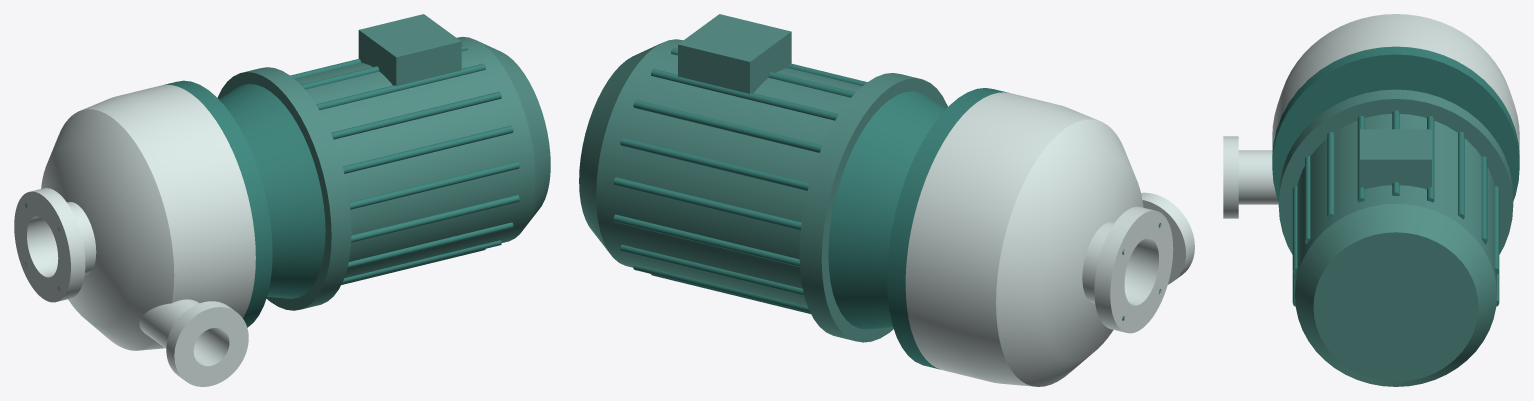
3 views of the same model, side by side, from view 1: azimuth 30°, elevation 25°; view 2: azimuth 150°, elevation 25°; view 3: azimuth 270°, elevation 25° (orthographic). The views are drawn at different scales.
Parts seen in each view (by area): view 1: 泵体_圆弧壳与轴向进液口, 电机_带筋机壳, 连接座_短连接段, 电机_连接法兰, 电机_接线盒, 接口_朝上出液法兰, 连接座_泵壳连接环, 电机_圆弧尾罩, 接口_偏置竖向出液管, 电机_散热筋04, 电机_散热筋05, 电机_散热筋03 (+5 smaller); view 2: 泵体_圆弧壳与轴向进液口, 电机_带筋机壳, 连接座_短连接段, 电机_连接法兰, 电机_接线盒, 连接座_泵壳连接环, 电机_圆弧尾罩, 接口_朝上出液法兰, 电机_散热筋16, 电机_散热筋15, 电机_散热筋17, 电机_散热筋14 (+4 smaller); view 3: 电机_圆弧尾罩, 连接座_泵壳连接环, 电机_带筋机壳, 电机_连接法兰, 泵体_圆弧壳与轴向进液口, 电机_接线盒, 接口_偏置竖向出液管, 接口_朝上出液法兰, 电机_散热筋03, 电机_散热筋17, 电机_散热筋16, 电机_散热筋05 (+5 smaller).
Part boxes in pixels (x1,y1,x2,y2): 泵体_圆弧壳与轴向进液口: (14, 84, 255, 350); 电机_带筋机壳: (295, 36, 535, 278); 连接座_短连接段: (219, 84, 325, 298); 电机_连接法兰: (217, 67, 351, 310); 电机_接线盒: (358, 14, 461, 86); 接口_朝上出液法兰: (166, 301, 248, 386); 连接座_泵壳连接环: (163, 80, 272, 327); 电机_圆弧尾罩: (477, 40, 550, 228); 接口_偏置竖向出液管: (139, 299, 221, 360); 电机_散热筋04: (342, 125, 513, 173); 电机_散热筋05: (349, 161, 519, 209); 电机_散热筋03: (331, 92, 501, 139); 泵体_圆弧壳与轴向进液口: (905, 92, 1173, 386); 电机_带筋机壳: (596, 39, 862, 306); 连接座_短连接段: (828, 91, 946, 329); 电机_连接法兰: (799, 73, 947, 342); 电机_接线盒: (678, 14, 791, 93); 连接座_泵壳连接环: (887, 88, 1008, 369); 电机_圆弧尾罩: (579, 43, 660, 250); 接口_朝上出液法兰: (1141, 192, 1194, 284); 电机_散热筋16: (620, 137, 809, 190); 电机_散热筋15: (613, 177, 801, 230); 电机_散热筋17: (633, 100, 822, 152); 电机_散热筋14: (613, 214, 799, 266); 电机_圆弧尾罩: (1295, 203, 1496, 386); 连接座_泵壳连接环: (1272, 46, 1519, 200); 电机_带筋机壳: (1295, 114, 1496, 291); 电机_连接法兰: (1278, 89, 1513, 254); 泵体_圆弧壳与轴向进液口: (1272, 14, 1519, 154); 电机_接线盒: (1360, 129, 1431, 189); 接口_偏置竖向出液管: (1238, 150, 1278, 204); 接口_朝上出液法兰: (1223, 136, 1238, 218); 电机_散热筋03: (1327, 132, 1333, 219); 电机_散热筋17: (1458, 132, 1464, 219); 电机_散热筋16: (1481, 156, 1487, 244); 电机_散热筋05: (1292, 186, 1297, 274).
Bounding box in the file's own units: 0.417 × 0.2042 × 0.2396.
